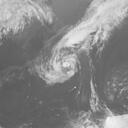cyclone: (35, 39, 85, 86)
